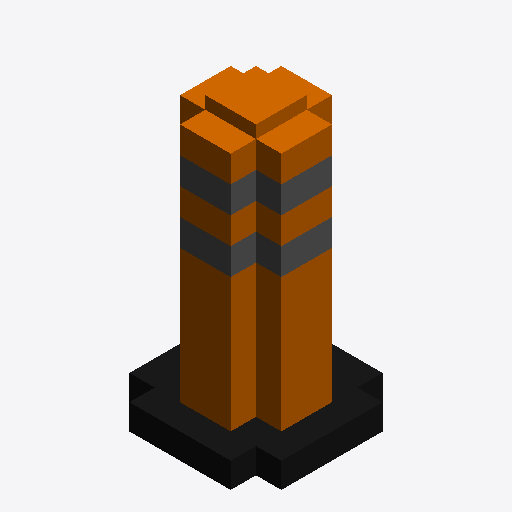
Isometric view (azimuth 45°, elevation 35.3°) of a Minecraft model made of 8 cuboids, textured from the same repository.
Visible parts, largest first — element 6, element 7, element 1, element 3, element 2, element 4, element 5, element 8.
Boxes of the visible parts, x1=… form: element 6: x1=256, y1=110, x2=331, y2=430; element 7: x1=180, y1=110, x2=255, y2=430; element 1: x1=129, y1=344, x2=382, y2=489; element 3: x1=129, y1=388, x2=255, y2=489; element 2: x1=205, y1=66, x2=306, y2=138; element 4: x1=332, y1=344, x2=382, y2=401; element 5: x1=180, y1=66, x2=242, y2=123; element 8: x1=269, y1=66, x2=331, y2=123.
Size of the model in its own units: 6 by 11 by 6.